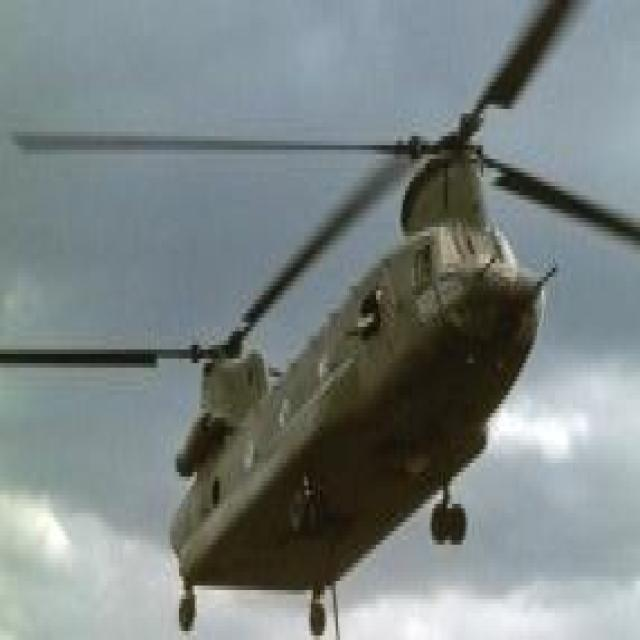Helicopter: (123, 125, 577, 630)
